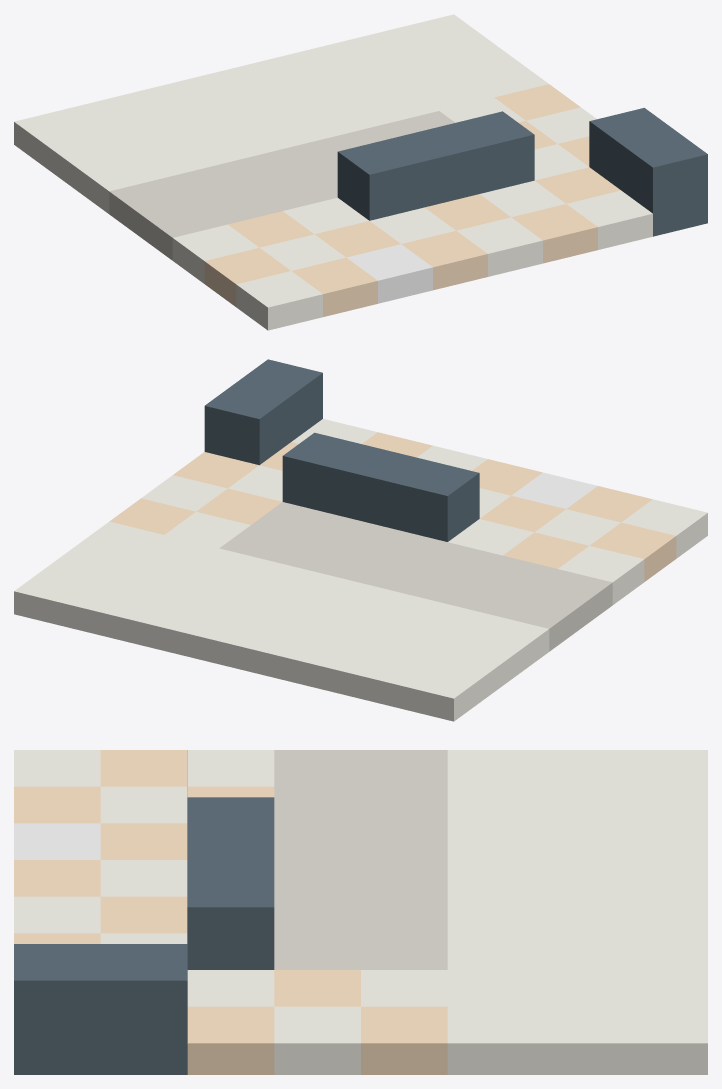
The model's file is Solution_Part.fbx.
3 renders of one model, top to bottom at view 1: azimuth 30°, elevation 25°; view 2: azimuth 150°, elevation 25°; view 3: azimuth 270°, elevation 25°, orthographic. The views are drawn at different scales.
Visible parts, largest first — view 1: solutionpart; view 2: solutionpart; view 3: solutionpart.
Part boxes in pixels (x1=…): solutionpart: x1=14, y1=14, x2=707, y2=330; solutionpart: x1=14, y1=359, x2=707, y2=721; solutionpart: x1=14, y1=750, x2=707, y2=1074.
Size of the model in its own units: 16000 by 2400 by 16000.
